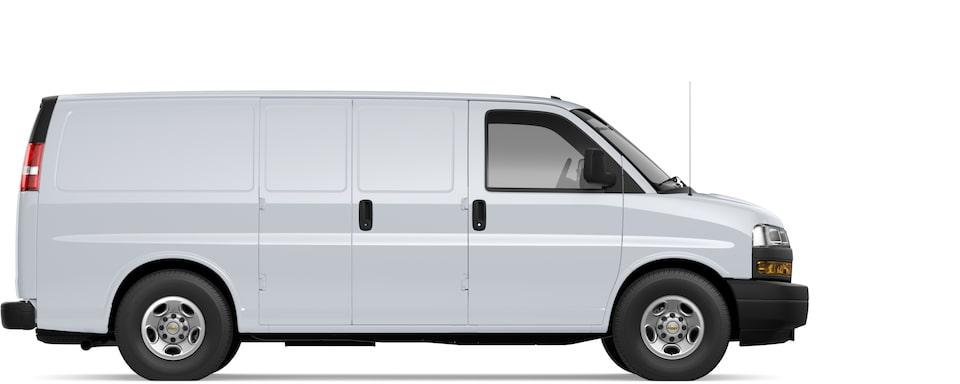van: (1, 88, 808, 382)
